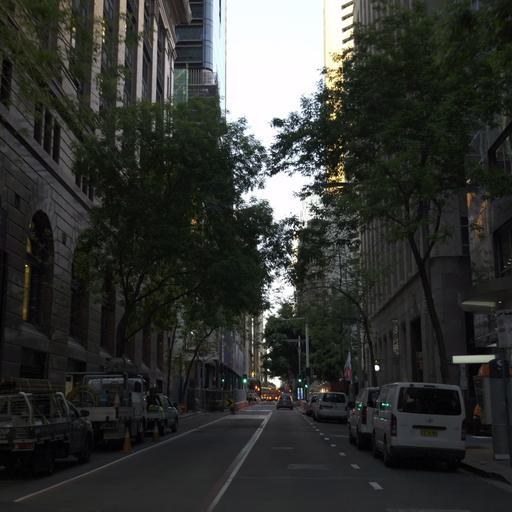Street light: (459, 294, 511, 467), (334, 236, 380, 386), (278, 315, 310, 399)
